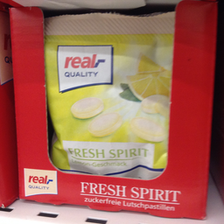candy: (47, 15, 173, 178)
